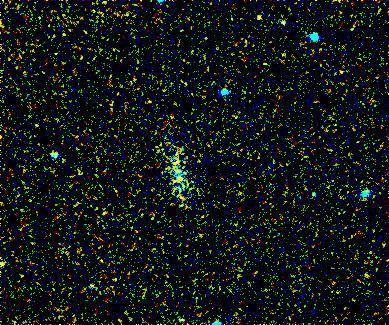star: (248, 0, 278, 29)
